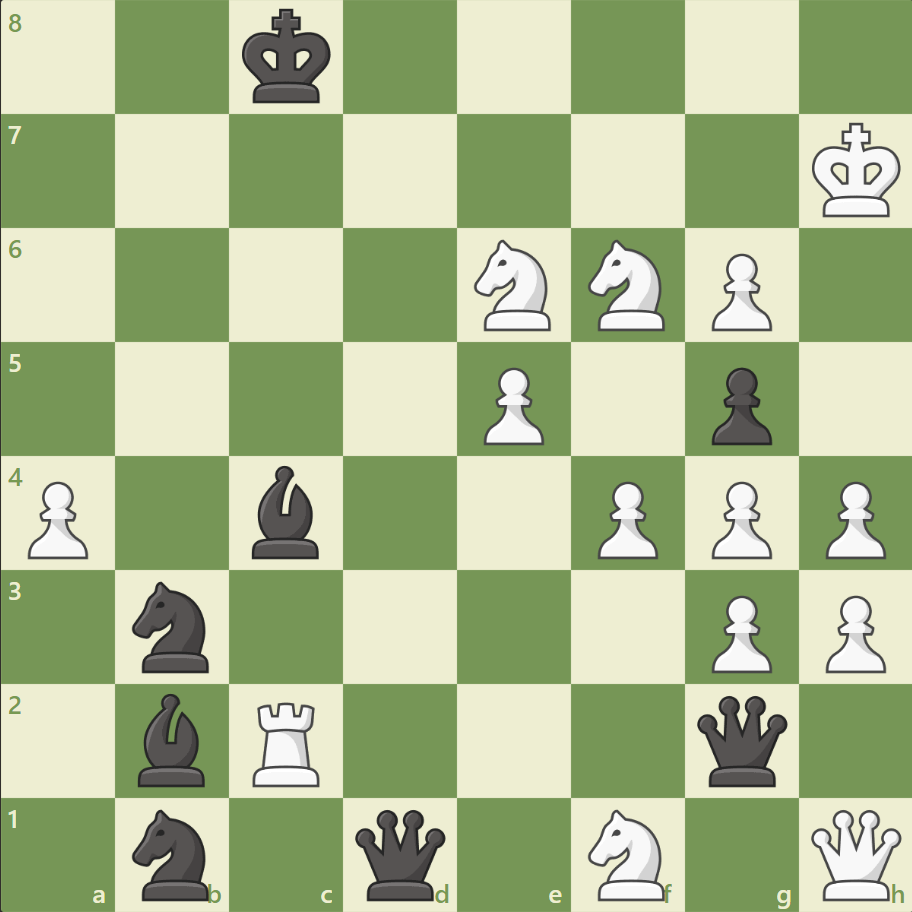K: (806, 117, 906, 225)
N: (465, 234, 562, 337), (579, 234, 676, 337), (579, 802, 676, 904)
P: (701, 246, 776, 337), (474, 359, 549, 450), (20, 473, 95, 564), (701, 473, 776, 564), (701, 586, 776, 677), (588, 473, 662, 564), (815, 473, 889, 564), (815, 586, 889, 677)
Q: (805, 804, 904, 903)
R: (246, 693, 329, 790)
b: (244, 460, 328, 563), (131, 687, 215, 790)
k: (238, 4, 338, 112)
n: (124, 575, 222, 677), (124, 802, 222, 904)
p: (701, 359, 776, 450)
q: (691, 690, 790, 789), (351, 804, 450, 903)
